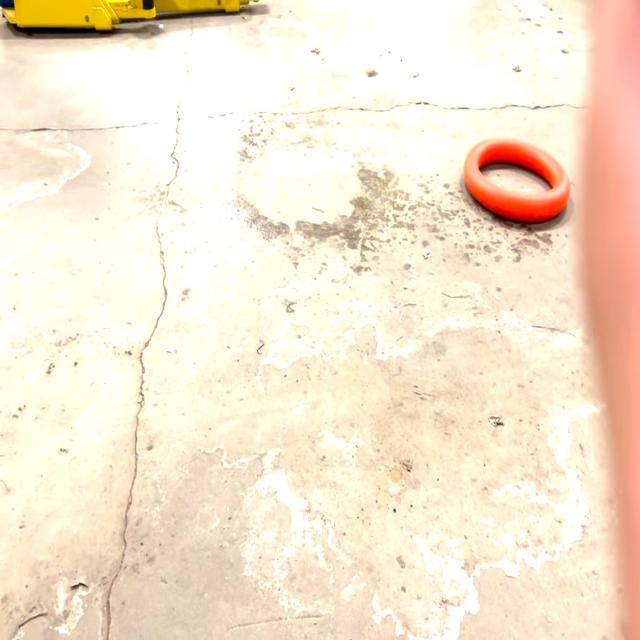note: (458, 128, 572, 229)
